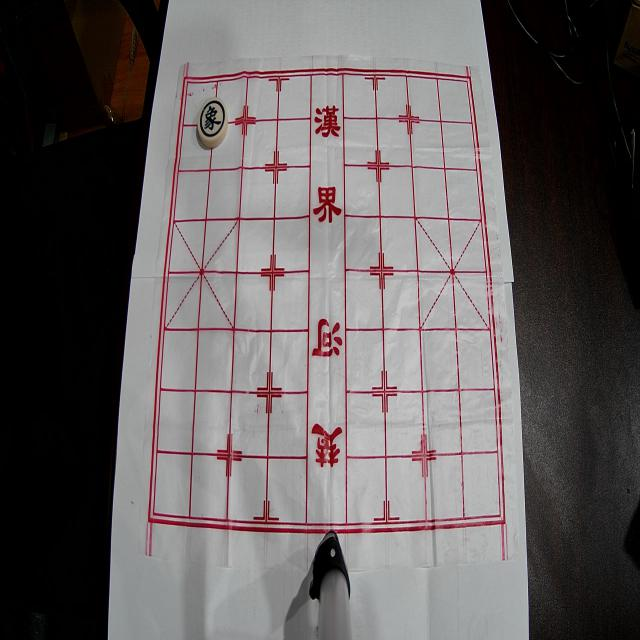black-elephant: (198, 98, 228, 148)
